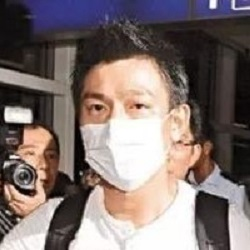mask: (76, 113, 168, 192)
